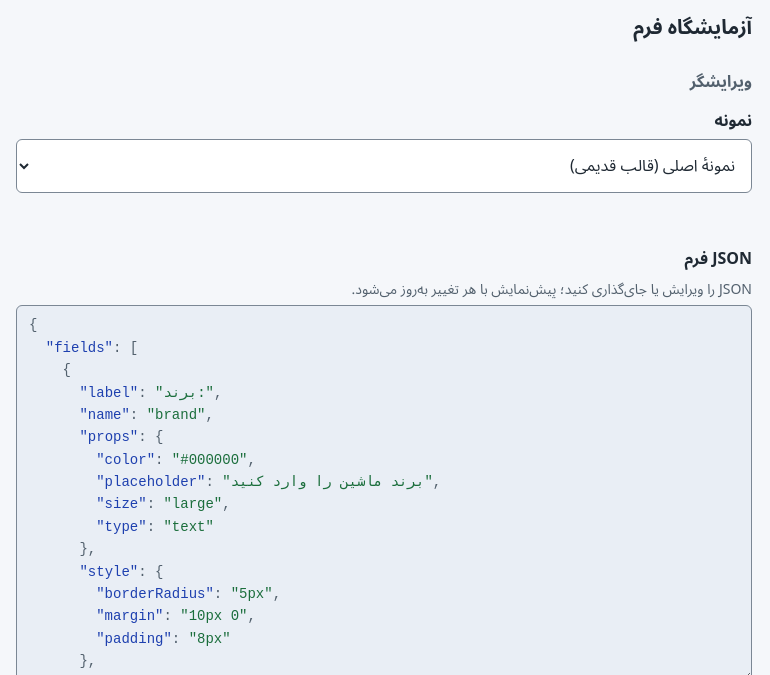
Test: presets (TC-P01) › choosing "v2" fills the editor with its JSON and shows its form
Select "فرم نسخهٔ ۲" in the dropdown labelled "نمونه" at (384, 166), box [16,139,752,193]
(page scrolled)
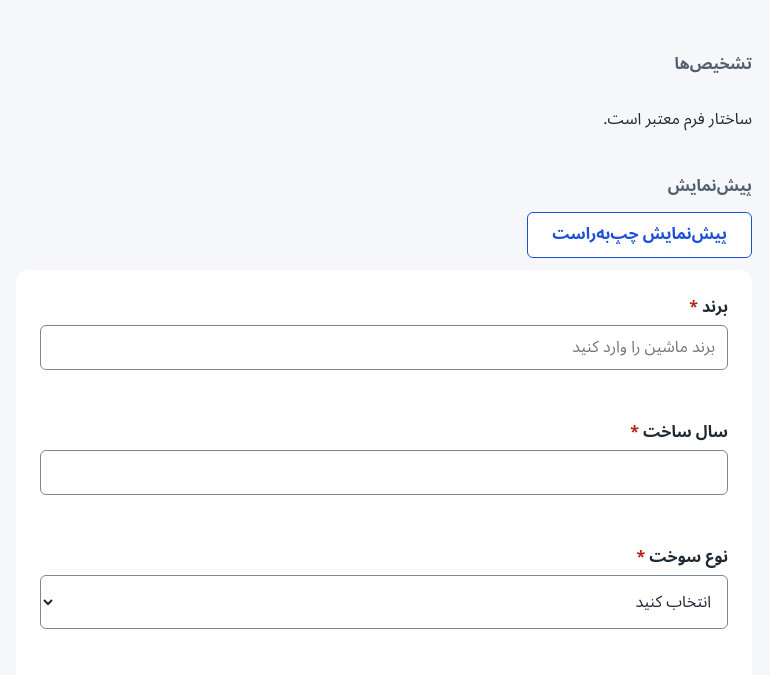
Now the field labelled "برند*" is shown, box [40,325,728,370]
